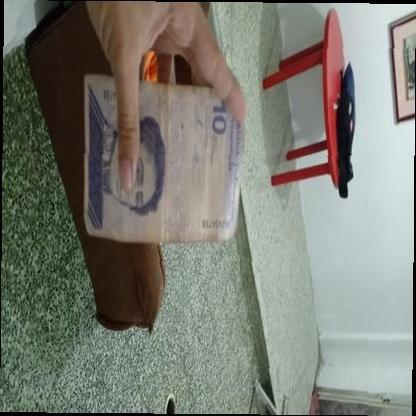ten-front-vef: (82, 74, 241, 242)
